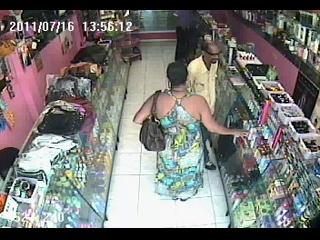Normal: (133, 62, 254, 202), (186, 40, 224, 171), (139, 90, 166, 152)
